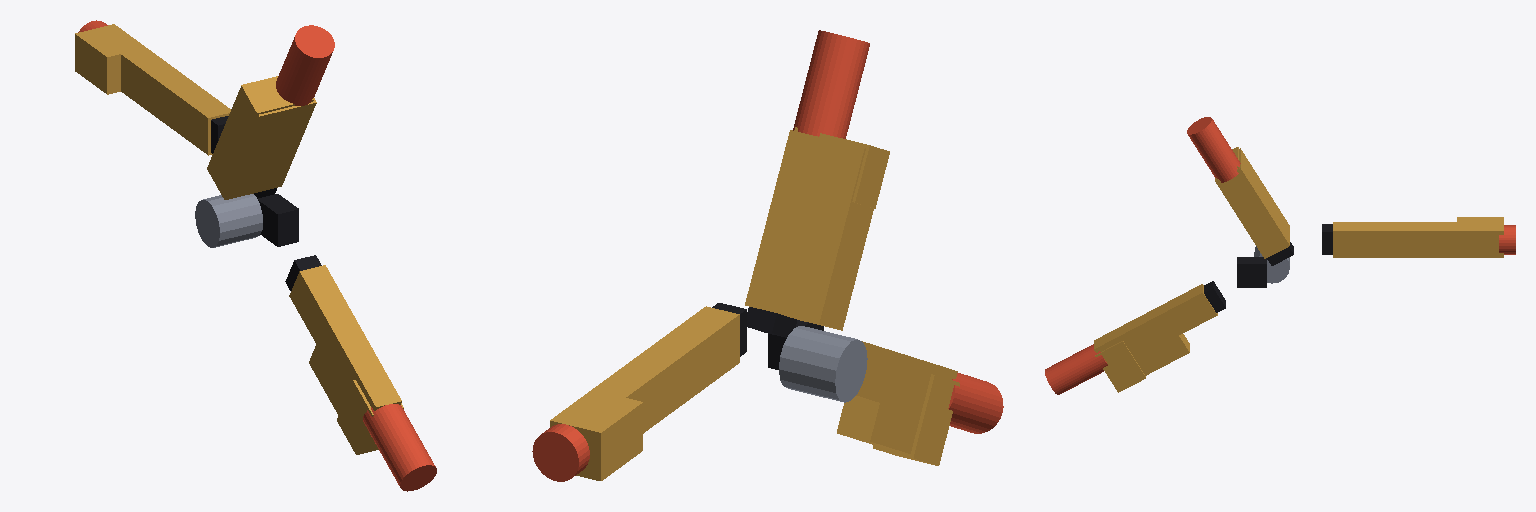
robot.urdf — g0001_c12:
<robot name="g0001_c12">
  <link name="palm">
    <visual name="palm_palm1">
      <origin xyz="0 0 0" rpy="0 0 0" />
      <geometry>
        <mesh filename="palm_palm1.obj" />
      </geometry>
      <material name="palm_palm1_mat">
        <color rgba="0.55 0.57 0.62 1" />
      </material>
    </visual>
    <collision>
      <origin xyz="0 0 0" rpy="0 0 0" />
      <geometry>
        <mesh filename="palm_palm1.obj" />
      </geometry>
    </collision>
    <visual name="palm_mount2">
      <origin xyz="0 0 0" rpy="0 0 0" />
      <geometry>
        <mesh filename="palm_mount2.obj" />
      </geometry>
      <material name="palm_mount2_mat">
        <color rgba="0.55 0.57 0.62 1" />
      </material>
    </visual>
    <collision>
      <origin xyz="0 0 0" rpy="0 0 0" />
      <geometry>
        <mesh filename="palm_mount2.obj" />
      </geometry>
    </collision>
    <visual name="palm_hinge3">
      <origin xyz="0 -0.0225 0" rpy="-0 -1.57079633 0" />
      <geometry>
        <box size="0.029 0.034 0.02" />
      </geometry>
      <material name="palm_hinge3_mat">
        <color rgba="0.15 0.15 0.17 1" />
      </material>
    </visual>
    <collision>
      <origin xyz="0 -0.0225 0" rpy="-0 -1.57079633 0" />
      <geometry>
        <box size="0.029 0.034 0.02" />
      </geometry>
    </collision>
    <visual name="palm_motor4">
      <origin xyz="0 0.00375 0.0335048095" rpy="-1.57079633 -0.523598776 1.57079633" />
      <geometry>
        <box size="0.029 0.034 0.02" />
      </geometry>
      <material name="palm_motor4_mat">
        <color rgba="0.15 0.15 0.17 1" />
      </material>
    </visual>
    <collision>
      <origin xyz="0 0.00375 0.0335048095" rpy="-1.57079633 -0.523598776 1.57079633" />
      <geometry>
        <box size="0.029 0.034 0.02" />
      </geometry>
    </collision>
    <visual name="palm_motor5">
      <origin xyz="0 0.0725 0.04" rpy="-3.14159265 1.57079633 0" />
      <geometry>
        <box size="0.029 0.034 0.02" />
      </geometry>
      <material name="palm_motor5_mat">
        <color rgba="0.15 0.15 0.17 1" />
      </material>
    </visual>
    <collision>
      <origin xyz="0 0.0725 0.04" rpy="-3.14159265 1.57079633 0" />
      <geometry>
        <box size="0.029 0.034 0.02" />
      </geometry>
    </collision>
    <inertial>
      <origin xyz="0 0.0255225106 0.0224174511" rpy="1.57079633 -0.415196028 1.57079633" />
      <mass value="0.29704066" />
      <inertia ixx="0.000106587327" ixy="0" ixz="0" iyy="0.000361263717" iyz="0" izz="0.000439335141" />
    </inertial>
  </link>
  <link name="palm0">
    <visual name="palm0_palm1">
      <origin xyz="0 0 0" rpy="0 0 0" />
      <geometry>
        <mesh filename="palm0_palm1.obj" />
      </geometry>
      <material name="palm0_palm1_mat">
        <color rgba="0.55 0.57 0.62 1" />
      </material>
    </visual>
    <collision>
      <origin xyz="0 0 0" rpy="0 0 0" />
      <geometry>
        <mesh filename="palm0_palm1.obj" />
      </geometry>
    </collision>
    <visual name="palm0_motor2">
      <origin xyz="0 -0.0435048095 -0.03625" rpy="1.57079633 -1.04719755 -1.57079633" />
      <geometry>
        <box size="0.029 0.034 0.02" />
      </geometry>
      <material name="palm0_motor2_mat">
        <color rgba="0.15 0.15 0.17 1" />
      </material>
    </visual>
    <collision>
      <origin xyz="0 -0.0435048095 -0.03625" rpy="1.57079633 -1.04719755 -1.57079633" />
      <geometry>
        <box size="0.029 0.034 0.02" />
      </geometry>
    </collision>
    <inertial>
      <origin xyz="0 -0.0301536048 -0.022190278" rpy="1.57079633 -0.907616579 1.57079633" />
      <mass value="0.125177784" />
      <inertia ixx="2.32142855e-05" ixy="0" ixz="0" iyy="6.55889098e-05" iyz="0" izz="7.6786128e-05" />
    </inertial>
  </link>
  <link name="f0_link0">
    <visual name="f0_link0_link1">
      <origin xyz="0.02375 0 -1.38777878e-17" rpy="0 -3.98552134e-18 0" />
      <geometry>
        <box size="0.0715 0.024 0.033" />
      </geometry>
      <material name="f0_link0_link1_mat">
        <color rgba="0.80 0.62 0.30 1" />
      </material>
    </visual>
    <collision>
      <origin xyz="0.02375 0 -1.38777878e-17" rpy="0 -3.98552134e-18 0" />
      <geometry>
        <box size="0.0715 0.024 0.033" />
      </geometry>
    </collision>
    <inertial>
      <origin xyz="0.02375 0 0" rpy="0 0 0" />
      <mass value="0.099099" />
      <inertia ixx="1.37499863e-05" ixy="0" ixz="0" iyy="5.12114728e-05" iyz="0" izz="4.69749906e-05" />
    </inertial>
  </link>
  <link name="f0_link1">
    <visual name="f0_link1_link1">
      <origin xyz="0.03375 0 -0.01225" rpy="0 -3.98552134e-18 0" />
      <geometry>
        <box size="0.0915 0.024 0.0575" />
      </geometry>
      <material name="f0_link1_link1_mat">
        <color rgba="0.80 0.62 0.30 1" />
      </material>
    </visual>
    <collision>
      <origin xyz="0.03375 0 -0.01225" rpy="0 -3.98552134e-18 0" />
      <geometry>
        <box size="0.0915 0.024 0.0575" />
      </geometry>
    </collision>
    <inertial>
      <origin xyz="0.03375 0 -0.01225" rpy="0 0 0" />
      <mass value="0.2209725" />
      <inertia ixx="7.14892073e-05" ixy="0" ixz="0" iyy="0.000215052278" iyz="0" izz="0.000164776431" />
    </inertial>
  </link>
  <link name="f0_link2">
    <visual name="f0_link2_link1">
      <origin xyz="-0.00625 0 -0.0165" rpy="0 -3.98552134e-18 0" />
      <geometry>
        <box size="0.0365 0.029 0.053" />
      </geometry>
      <material name="f0_link2_link1_mat">
        <color rgba="0.80 0.62 0.30 1" />
      </material>
    </visual>
    <collision>
      <origin xyz="-0.00625 0 -0.0165" rpy="0 -3.98552134e-18 0" />
      <geometry>
        <box size="0.0365 0.029 0.053" />
      </geometry>
    </collision>
    <inertial>
      <origin xyz="-0.00625 0 -0.0165" rpy="0 0 0" />
      <mass value="0.098175875" />
      <inertia ixx="2.98618286e-05" ixy="0" ixz="0" iyy="3.38809035e-05" iyz="0" izz="1.778006e-05" />
    </inertial>
  </link>
  <link name="f0_link3">
    <visual name="f0_link3_link1">
      <origin xyz="0.039 0 -1.47451495e-17" rpy="-1.57079633 -0 -1.57079633" />
      <geometry>
        <cylinder radius="0.0165" length="0.069" />
      </geometry>
      <material name="f0_link3_link1_mat">
        <color rgba="0.85 0.35 0.25 1" />
      </material>
    </visual>
    <collision>
      <origin xyz="0.039 0 -1.47451495e-17" rpy="-1.57079633 -0 -1.57079633" />
      <geometry>
        <cylinder radius="0.0165" length="0.069" />
      </geometry>
    </collision>
    <inertial>
      <origin xyz="0.039 0 0" rpy="0 0 0" />
      <mass value="0.136206302" />
      <inertia ixx="1.76445909e-05" ixy="0" ixz="0" iyy="0.000104842911" iyz="0" izz="0.000104842911" />
    </inertial>
  </link>
  <link name="f1_link0">
    <visual name="f1_link0_link1">
      <origin xyz="0.04375 -0.0145 3.46944695e-18" rpy="0 3.98552134e-18 0" />
      <geometry>
        <box size="0.1115 0.053 0.033" />
      </geometry>
      <material name="f1_link0_link1_mat">
        <color rgba="0.80 0.62 0.30 1" />
      </material>
    </visual>
    <collision>
      <origin xyz="0.04375 -0.0145 3.46944695e-18" rpy="0 3.98552134e-18 0" />
      <geometry>
        <box size="0.1115 0.053 0.033" />
      </geometry>
    </collision>
    <inertial>
      <origin xyz="0.04375 -0.0145 0" rpy="0 0 0" />
      <mass value="0.341273625" />
      <inertia ixx="0.000110857049" ixy="0" ixz="0" iyy="0.000384537167" iyz="0" izz="0.000433453053" />
    </inertial>
  </link>
  <link name="f1_link1">
    <visual name="f1_link1_link1">
      <origin xyz="-0.00625 -0.0165 -1.04083409e-17" rpy="0 3.98552134e-18 0" />
      <geometry>
        <box size="0.0365 0.053 0.029" />
      </geometry>
      <material name="f1_link1_link1_mat">
        <color rgba="0.80 0.62 0.30 1" />
      </material>
    </visual>
    <collision>
      <origin xyz="-0.00625 -0.0165 -1.04083409e-17" rpy="0 3.98552134e-18 0" />
      <geometry>
        <box size="0.0365 0.053 0.029" />
      </geometry>
    </collision>
    <inertial>
      <origin xyz="-0.00625 -0.0165 0" rpy="0 0 0" />
      <mass value="0.098175875" />
      <inertia ixx="2.98618286e-05" ixy="0" ixz="0" iyy="1.778006e-05" iyz="0" izz="3.38809035e-05" />
    </inertial>
  </link>
  <link name="f1_link2">
    <visual name="f1_link2_link1">
      <origin xyz="0.039 0 -5.20417043e-18" rpy="-1.57079633 -0 -1.57079633" />
      <geometry>
        <cylinder radius="0.0165" length="0.069" />
      </geometry>
      <material name="f1_link2_link1_mat">
        <color rgba="0.85 0.35 0.25 1" />
      </material>
    </visual>
    <collision>
      <origin xyz="0.039 0 -5.20417043e-18" rpy="-1.57079633 -0 -1.57079633" />
      <geometry>
        <cylinder radius="0.0165" length="0.069" />
      </geometry>
    </collision>
    <inertial>
      <origin xyz="0.039 0 0" rpy="0 0 0" />
      <mass value="0.136206302" />
      <inertia ixx="1.76445909e-05" ixy="0" ixz="0" iyy="0.000104842911" iyz="0" izz="0.000104842911" />
    </inertial>
  </link>
  <link name="f2_link0">
    <visual name="f2_link0_link1">
      <origin xyz="0.04375 0 0" rpy="0 -0 0" />
      <geometry>
        <box size="0.1115 0.024 0.033" />
      </geometry>
      <material name="f2_link0_link1_mat">
        <color rgba="0.80 0.62 0.30 1" />
      </material>
    </visual>
    <collision>
      <origin xyz="0.04375 0 0" rpy="0 -0 0" />
      <geometry>
        <box size="0.1115 0.024 0.033" />
      </geometry>
    </collision>
    <inertial>
      <origin xyz="0.04375 0 0" rpy="0 0 0" />
      <mass value="0.154539" />
      <inertia ixx="2.14422863e-05" ixy="0" ixz="0" iyy="0.000174130038" iyz="0" izz="0.000167523496" />
    </inertial>
  </link>
  <link name="f2_link1">
    <visual name="f2_link1_link1">
      <origin xyz="0.02375 0 0" rpy="0 -0 0" />
      <geometry>
        <box size="0.0715 0.024 0.033" />
      </geometry>
      <material name="f2_link1_link1_mat">
        <color rgba="0.80 0.62 0.30 1" />
      </material>
    </visual>
    <collision>
      <origin xyz="0.02375 0 0" rpy="0 -0 0" />
      <geometry>
        <box size="0.0715 0.024 0.033" />
      </geometry>
    </collision>
    <inertial>
      <origin xyz="0.02375 0 0" rpy="0 0 0" />
      <mass value="0.099099" />
      <inertia ixx="1.37499863e-05" ixy="0" ixz="0" iyy="5.12114728e-05" iyz="0" izz="4.69749906e-05" />
    </inertial>
  </link>
  <link name="f2_link2">
    <visual name="f2_link2_link1">
      <origin xyz="0.014 -0.00625 0" rpy="0 -0 0" />
      <geometry>
        <box size="0.052 0.0365 0.033" />
      </geometry>
      <material name="f2_link2_link1_mat">
        <color rgba="0.80 0.62 0.30 1" />
      </material>
    </visual>
    <collision>
      <origin xyz="0.014 -0.00625 0" rpy="0 -0 0" />
      <geometry>
        <box size="0.052 0.0365 0.033" />
      </geometry>
    </collision>
    <inertial>
      <origin xyz="0.014 -0.00625 0" rpy="0 0 0" />
      <mass value="0.1096095" />
      <inertia ixx="2.21160002e-05" ixy="0" ixz="0" iyy="3.46457361e-05" iyz="0" izz="3.6867612e-05" />
    </inertial>
  </link>
  <link name="f2_link3">
    <visual name="f2_link3_link1">
      <origin xyz="0.014 0 0" rpy="-1.57079633 -0 -1.57079633" />
      <geometry>
        <cylinder radius="0.0165" length="0.019" />
      </geometry>
      <material name="f2_link3_link1_mat">
        <color rgba="0.85 0.35 0.25 1" />
      </material>
    </visual>
    <collision>
      <origin xyz="0.014 0 0" rpy="-1.57079633 -0 -1.57079633" />
      <geometry>
        <cylinder radius="0.0165" length="0.019" />
      </geometry>
    </collision>
    <inertial>
      <origin xyz="0.014 0 0" rpy="0 0 0" />
      <mass value="0.0613676745" />
      <inertia ixx="7.45718278e-06" ixy="0" ixz="0" iyy="1.32201625e-05" iyz="0" izz="1.32201625e-05" />
    </inertial>
  </link>
  <joint name="palm0_joint" type="revolute">
    <parent link="palm" />
    <child link="palm0" />
    <origin xyz="0 -0.03 0" rpy="0 0 0" />
    <axis xyz="0 0 1" />
    <limit effort="0.5" lower="-0.523598776" upper="0.523598776" velocity="5" />
    <dynamics damping="0.0775033" friction="0" />
  </joint>
  <joint name="f0_j0" type="revolute">
    <parent link="palm0" />
    <child link="f0_link0" />
    <origin xyz="0 -0.05 -0.04" rpy="0 0.523598776 -1.57079633" />
    <axis xyz="0 0 1" />
    <limit effort="0.5" lower="-0.523598776" upper="1.57079633" velocity="5" />
    <dynamics damping="0.0775033" friction="0" />
  </joint>
  <joint name="f0_j1" type="revolute">
    <parent link="f0_link0" />
    <child link="f0_link1" />
    <origin xyz="0.05 0 0" rpy="0 0 0" />
    <axis xyz="0 0 1" />
    <limit effort="0.5" lower="-0.523598776" upper="1.57079633" velocity="5" />
    <dynamics damping="0.0775033" friction="0" />
  </joint>
  <joint name="f0_j2" type="revolute">
    <parent link="f0_link1" />
    <child link="f0_link2" />
    <origin xyz="0.07 0 0" rpy="0 0 0" />
    <axis xyz="0 0 1" />
    <limit effort="0.5" lower="-0.523598776" upper="1.57079633" velocity="5" />
    <dynamics damping="0.0775033" friction="0" />
  </joint>
  <joint name="f0_j3" type="revolute">
    <parent link="f0_link2" />
    <child link="f0_link3" />
    <origin xyz="0 0 0" rpy="0 0 0" />
    <axis xyz="0 1 6.123234e-17" />
    <limit effort="0.5" lower="-0.523598776" upper="0.523598776" velocity="5" />
    <dynamics damping="0.0775033" friction="0" />
  </joint>
  <joint name="f1_j0" type="revolute">
    <parent link="palm" />
    <child link="f1_link0" />
    <origin xyz="0 0 0.04" rpy="-0 -1.04719755 -1.57079633" />
    <axis xyz="0 0 1" />
    <limit effort="0.5" lower="-0.523598776" upper="1.57079633" velocity="5" />
    <dynamics damping="0.0775033" friction="0" />
  </joint>
  <joint name="f1_j1" type="revolute">
    <parent link="f1_link0" />
    <child link="f1_link1" />
    <origin xyz="0.09 0 0" rpy="0 0 0" />
    <axis xyz="-0 -1 -6.123234e-17" />
    <limit effort="0.5" lower="-0.523598776" upper="0.523598776" velocity="5" />
    <dynamics damping="0.0775033" friction="0" />
  </joint>
  <joint name="f1_j2" type="revolute">
    <parent link="f1_link1" />
    <child link="f1_link2" />
    <origin xyz="0 0 0" rpy="0 0 0" />
    <axis xyz="0 0 1" />
    <limit effort="0.5" lower="-0.523598776" upper="1.57079633" velocity="5" />
    <dynamics damping="0.0775033" friction="0" />
  </joint>
  <joint name="f2_j0" type="revolute">
    <parent link="palm" />
    <child link="f2_link0" />
    <origin xyz="0 0.08 0.04" rpy="-3.14159265 -6.123234e-17 1.57079633" />
    <axis xyz="0 0 1" />
    <limit effort="0.5" lower="-0.523598776" upper="1.57079633" velocity="5" />
    <dynamics damping="0.0775033" friction="0" />
  </joint>
  <joint name="f2_j1" type="revolute">
    <parent link="f2_link0" />
    <child link="f2_link1" />
    <origin xyz="0.09 0 0" rpy="0 0 0" />
    <axis xyz="0 0 1" />
    <limit effort="0.5" lower="-0.523598776" upper="1.57079633" velocity="5" />
    <dynamics damping="0.0775033" friction="0" />
  </joint>
  <joint name="f2_j2" type="revolute">
    <parent link="f2_link1" />
    <child link="f2_link2" />
    <origin xyz="0.05 0 0" rpy="0 0 0" />
    <axis xyz="0 0 1" />
    <limit effort="0.5" lower="-0.523598776" upper="1.57079633" velocity="5" />
    <dynamics damping="0.0775033" friction="0" />
  </joint>
  <joint name="f2_j3" type="revolute">
    <parent link="f2_link2" />
    <child link="f2_link3" />
    <origin xyz="0.03 0 0" rpy="0 0 0" />
    <axis xyz="0 0 1" />
    <limit effort="0.5" lower="-0.523598776" upper="1.57079633" velocity="5" />
    <dynamics damping="0.0775033" friction="0" />
  </joint>
</robot>

--- What the picture shows (computed from the rendered views, not written in the file) ---
3 views of the same robot in one strip: view 1: azimuth 30°, elevation 25°; view 2: azimuth 150°, elevation 25°; view 3: azimuth 270°, elevation 25° (orthographic).
Robot: g0001_c12 — 13 links, 12 joints (12 revolute); root link palm; default pose: every joint at zero.
Visible links, largest first — view 1: f1_link0, palm, f2_link0, f0_link1, f0_link3, f0_link0, f1_link2, f2_link2, f1_link1, f0_link2, f2_link1; view 2: f1_link0, palm, f2_link0, f0_link1, f1_link2, f2_link2, f0_link2, f0_link3, f2_link3, f2_link1, f1_link1, f0_link0; view 3: f1_link0, f2_link0, f0_link1, palm, f1_link2, f0_link0, f0_link3, f2_link1, f0_link2, f2_link2.
Link boxes in pixels (left/top/right/bottom): f1_link0: left=207, top=76, right=316, bottom=199; palm: left=195, top=116, right=298, bottom=247; f2_link0: left=139, top=61, right=230, bottom=155; f0_link1: left=309, top=320, right=401, bottom=414; f0_link3: left=363, top=404, right=436, bottom=491; f0_link0: left=289, top=265, right=363, bottom=361; f1_link2: left=276, top=25, right=334, bottom=105; f2_link2: left=75, top=24, right=139, bottom=94; f1_link1: left=230, top=77, right=313, bottom=140; f0_link2: left=337, top=380, right=403, bottom=454; f2_link1: left=115, top=38, right=163, bottom=103; f1_link0: left=745, top=130, right=873, bottom=330; palm: left=712, top=303, right=867, bottom=402; f2_link0: left=615, top=306, right=739, bottom=428; f0_link1: left=837, top=351, right=957, bottom=453; f1_link2: left=793, top=30, right=869, bottom=138; f2_link2: left=550, top=390, right=642, bottom=480; f0_link2: left=873, top=374, right=959, bottom=465; f0_link3: left=948, top=373, right=1003, bottom=433; f2_link3: left=532, top=424, right=589, bottom=481; f2_link1: left=584, top=360, right=666, bottom=433; f1_link1: left=794, top=127, right=889, bottom=208; f0_link0: left=855, top=341, right=896, bottom=402; f1_link0: left=1215, top=148, right=1289, bottom=258; f2_link0: left=1333, top=222, right=1431, bottom=257; f0_link1: left=1094, top=312, right=1189, bottom=375; palm: left=1237, top=224, right=1332, bottom=287; f1_link2: left=1187, top=117, right=1240, bottom=182; f0_link0: left=1148, top=284, right=1217, bottom=342; f0_link3: left=1045, top=344, right=1107, bottom=394; f2_link1: left=1413, top=222, right=1475, bottom=257; f0_link2: left=1095, top=341, right=1145, bottom=392; f2_link2: left=1457, top=217, right=1503, bottom=257.
Bounding box of the posed robot: 0.0685 × 0.5293 × 0.3409 m (x, y, z).
Meshes: 3 distinct files referenced, 1 mesh visuals loaded (1 OBJ); not drawn: 2 (reference not matched to a file when rendering).
